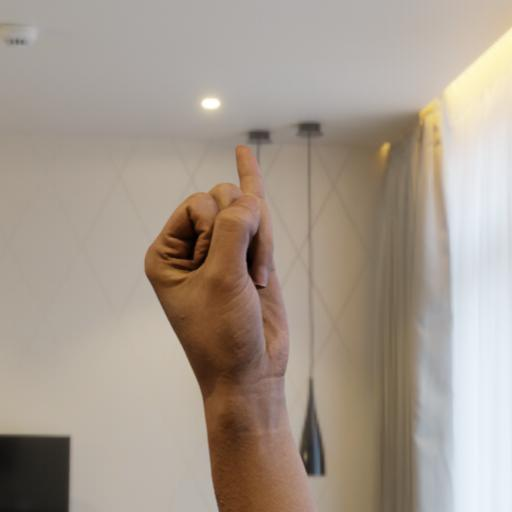I: (138, 126, 318, 512)
